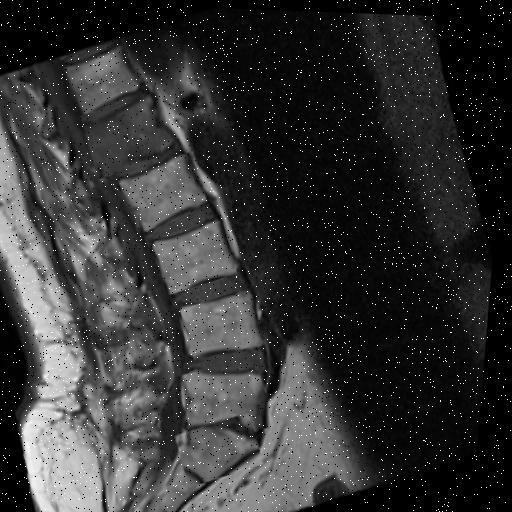L1: (86, 93, 178, 177)
L2: (124, 153, 210, 230)
L3: (158, 219, 242, 293)
L4: (185, 290, 269, 356)
L5: (187, 372, 268, 434)
S1: (188, 425, 267, 481)
